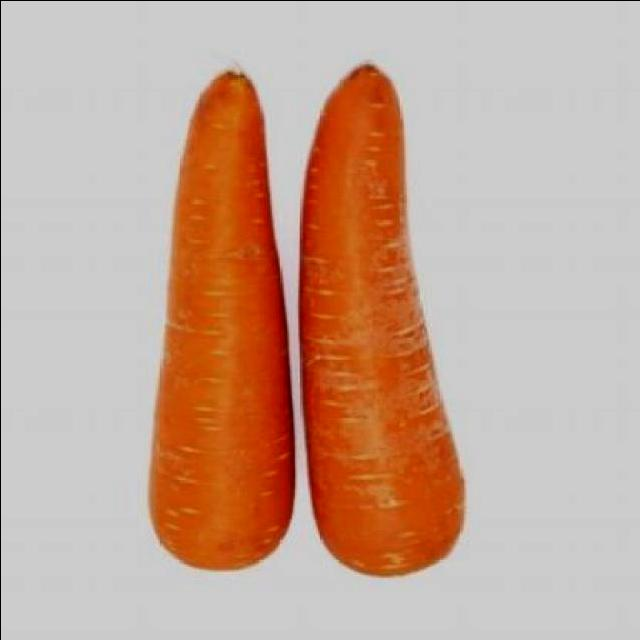carrot: (298, 58, 469, 581), (145, 59, 291, 579)
